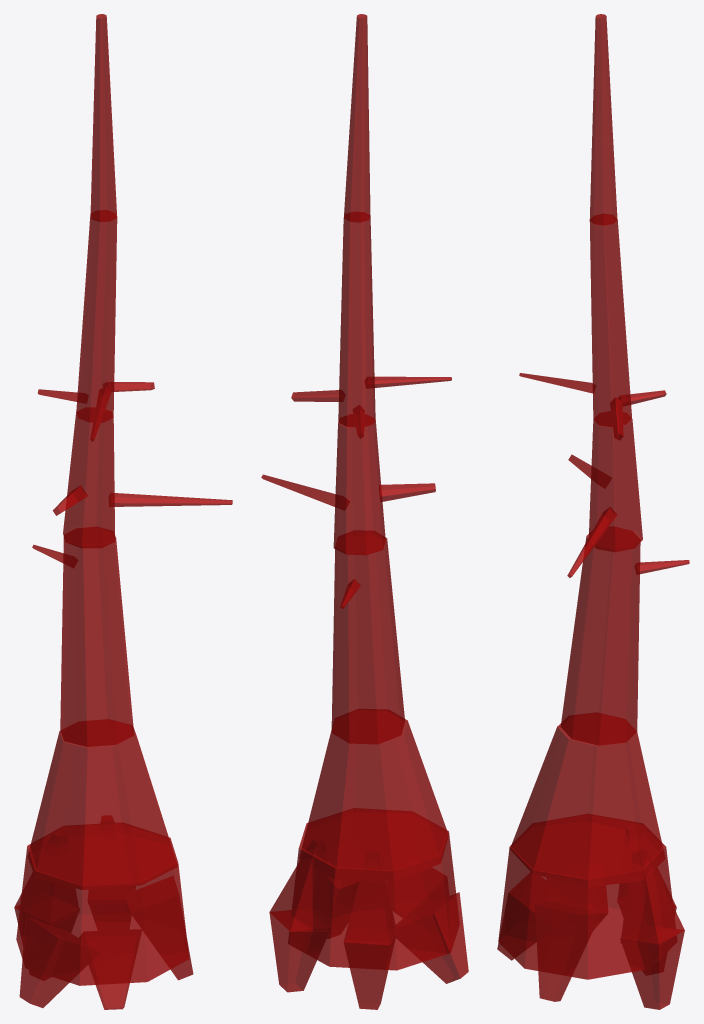
File: SM_Env_Tree_Swamp_01_ALT_Collision.fbx
The picture shows the model from 3 angles, left to right: view 1: azimuth 30°, elevation 25°; view 2: azimuth 150°, elevation 25°; view 3: azimuth 270°, elevation 25°; orthographic projection.
Visible parts, largest first — view 1: SM_Env_Tree_Swamp_01_ALT_Collision; view 2: SM_Env_Tree_Swamp_01_ALT_Collision; view 3: SM_Env_Tree_Swamp_01_ALT_Collision.
Part boxes in pixels (<box>): SM_Env_Tree_Swamp_01_ALT_Collision: <box>14,14,232,1009</box>; SM_Env_Tree_Swamp_01_ALT_Collision: <box>261,14,468,1009</box>; SM_Env_Tree_Swamp_01_ALT_Collision: <box>497,14,689,1009</box>.
Bounding box in the file's own units: 414 × 1858 × 334.
